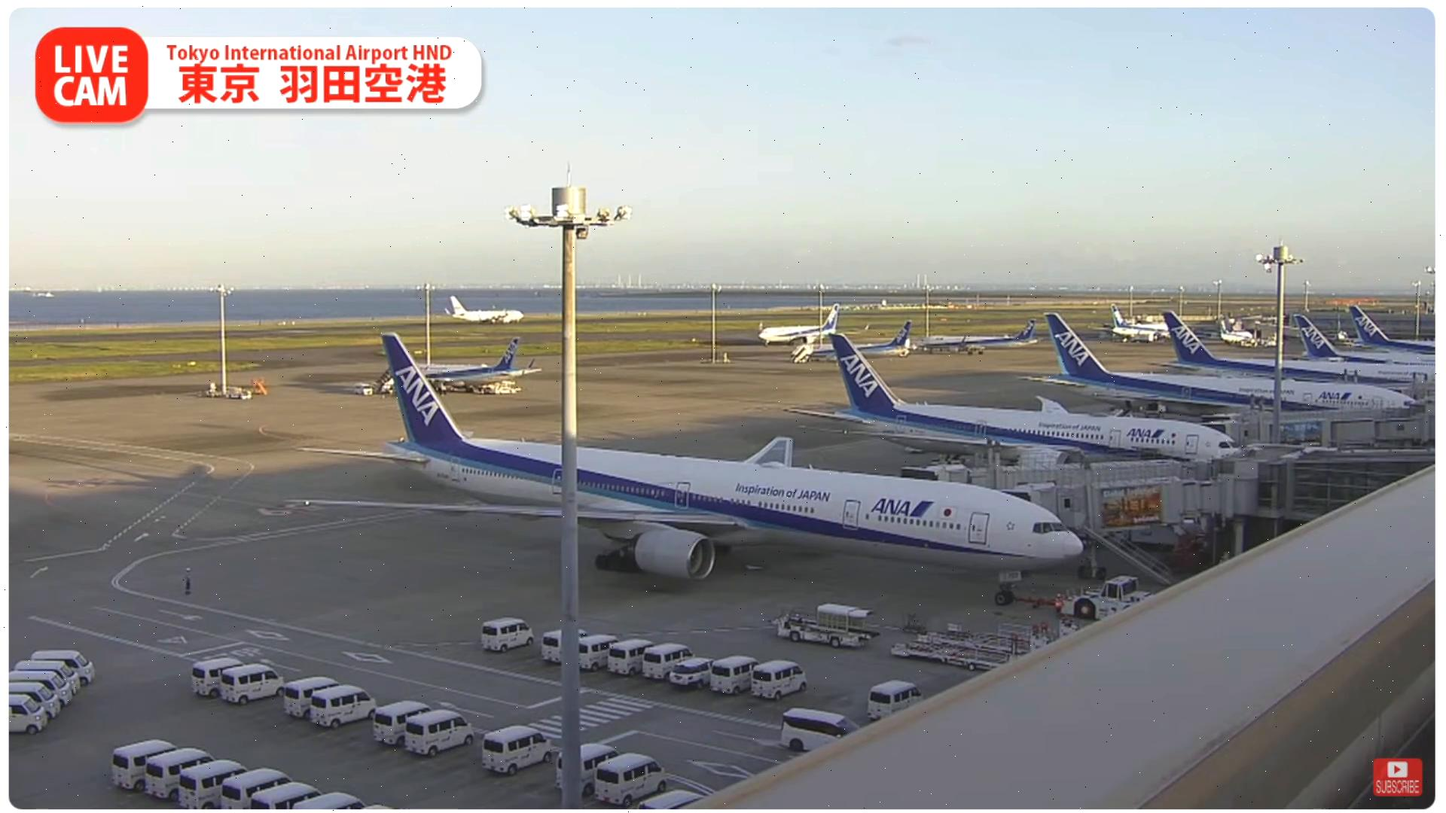APS: (1062, 573, 1160, 619)
Aerobridge: (1002, 452, 1258, 588), (892, 443, 1211, 486)
Airplane: (279, 333, 1086, 605)
JCPL: (892, 633, 1051, 670), (919, 618, 1080, 650)
Skyloader: (777, 599, 879, 648)
Window: (1291, 461, 1433, 515)
